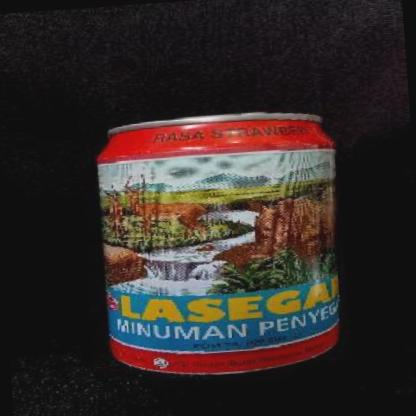alumunium_can: (92, 107, 351, 386)
